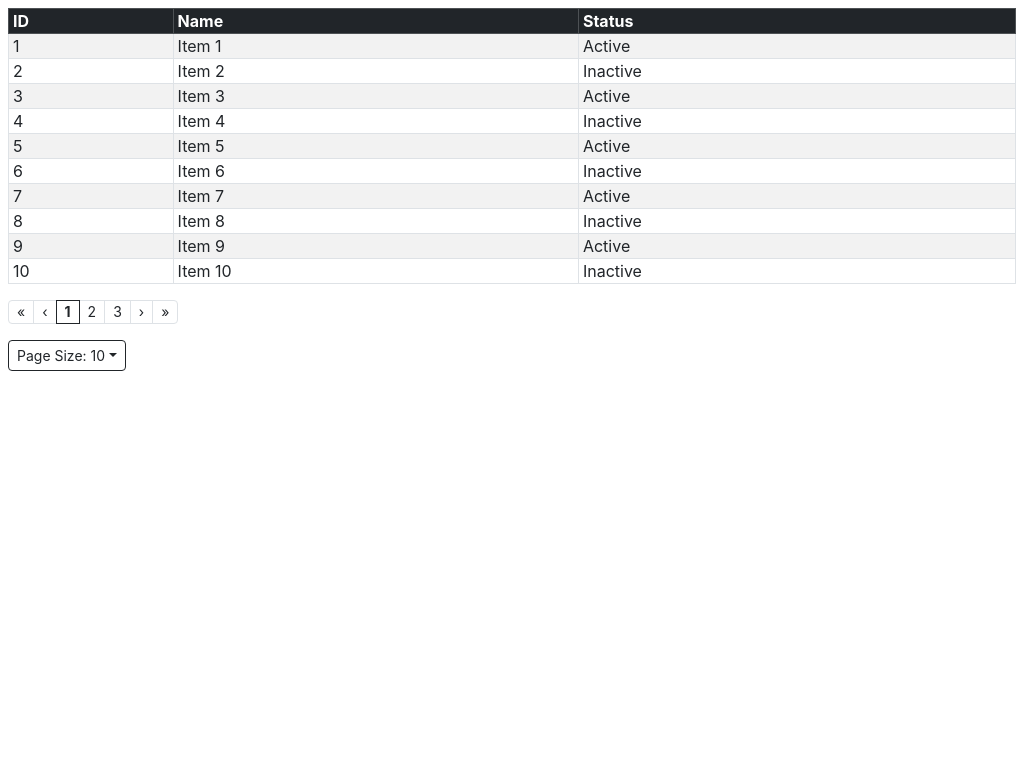
Test: KopiaTable › Page Size Changes › displays all available page sizes in dropdown
// Open page size dropdown
What coordinates should you click on to do the following:
click the button "Page Size: 10"
I would click on:
 (67, 356)
Its box is 8,340 -> 126,371.
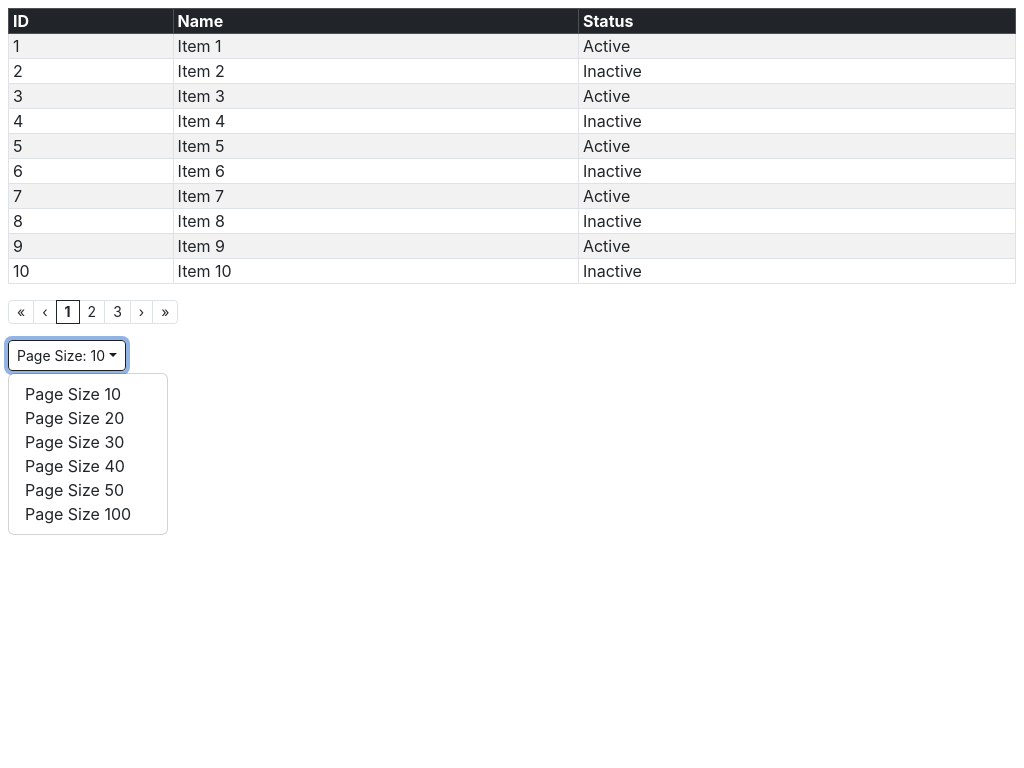
Expected: the button "Page Size 20" is shown, 25,408 -> 124,428
